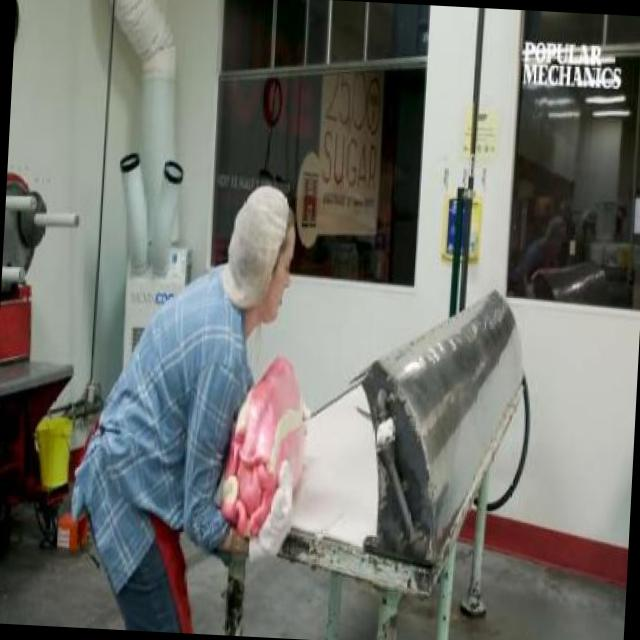hairnet: (232, 183, 290, 282)
